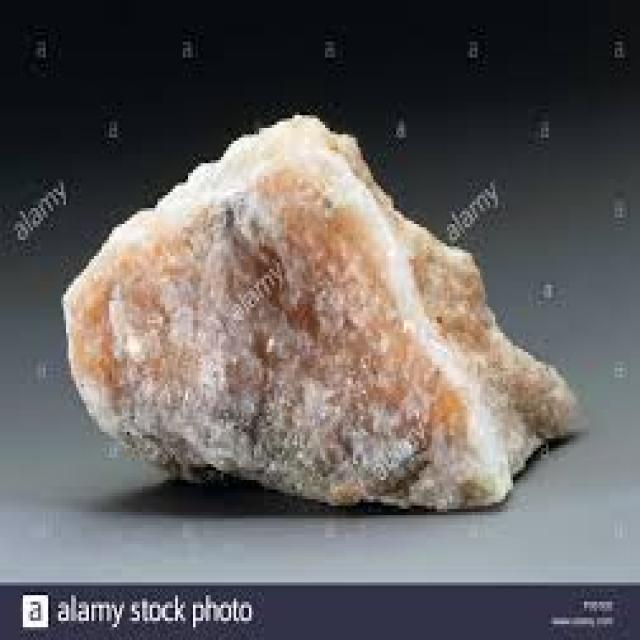Metamorphic: (56, 121, 587, 518)
